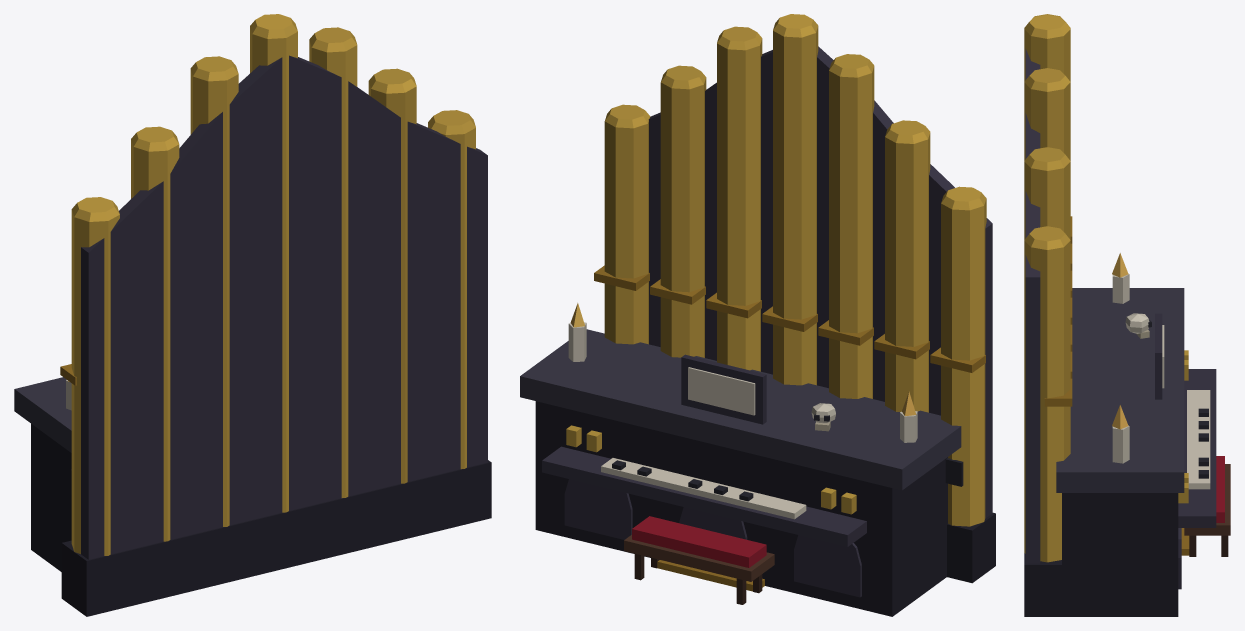
Rendered from Decor_VampireCrypt_Organ.fbx.
3 views of the same model, side by side, from view 1: azimuth 30°, elevation 25°; view 2: azimuth 150°, elevation 25°; view 3: azimuth 270°, elevation 25° (orthographic). The views are drawn at different scales.
Parts seen in each view (by area): view 1: Organ_Body; view 2: Organ_Body; view 3: Organ_Body.
Boxes of the visible parts, <box> form: Organ_Body: <box>14,14,491,616</box>; Organ_Body: <box>520,14,995,616</box>; Organ_Body: <box>1024,14,1230,616</box>.
Size of the model in its own units: 15.5 by 19 by 7.1.
